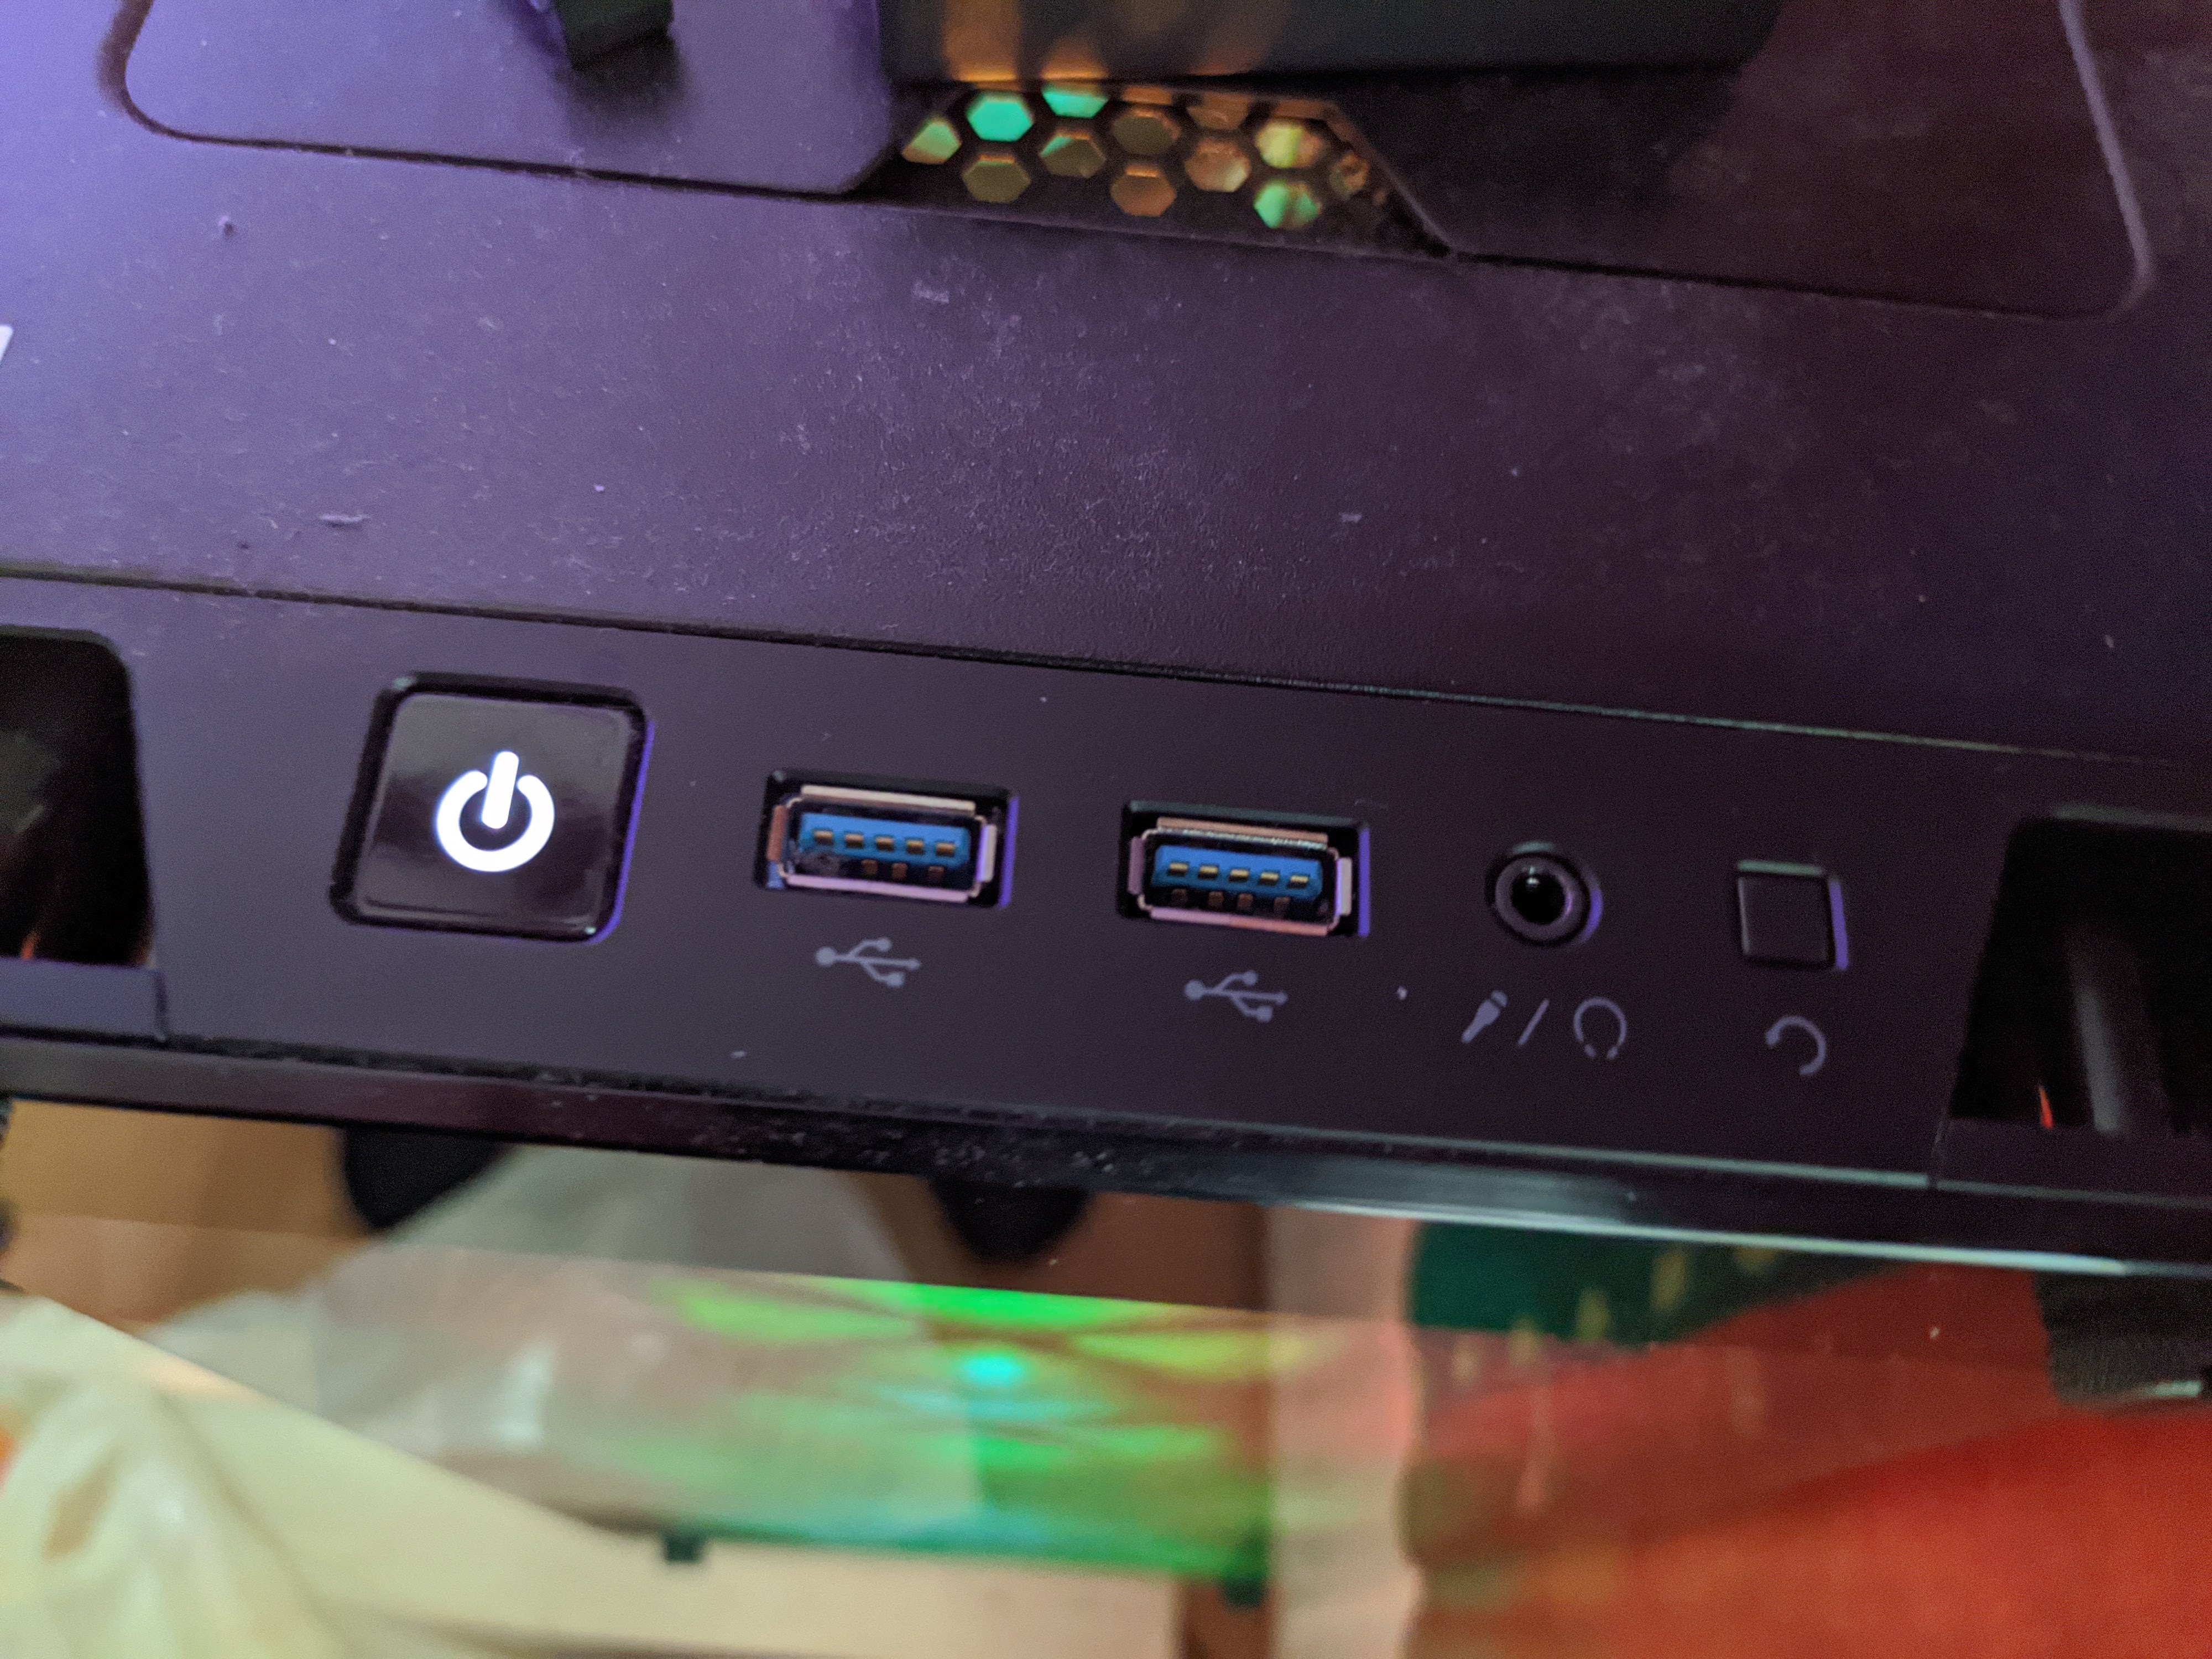usbport_in: (1113, 800, 1355, 943), (761, 774, 998, 906)
